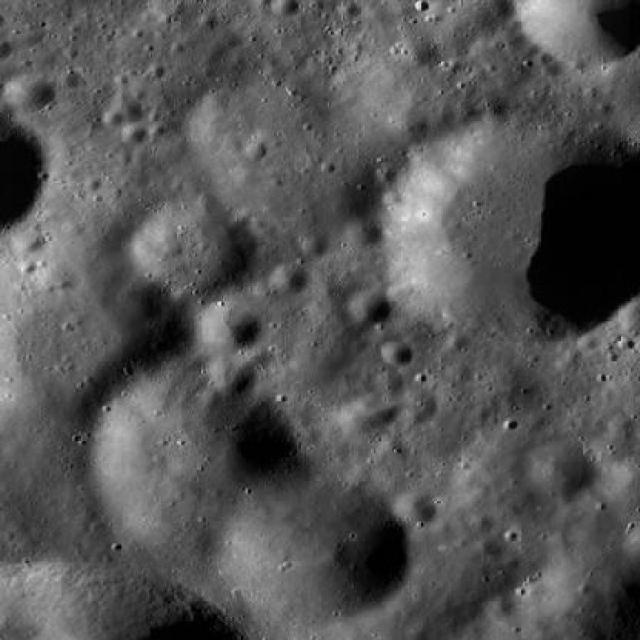crater: (85, 370, 313, 558), (0, 234, 191, 432), (210, 461, 412, 628), (230, 255, 378, 378), (190, 73, 332, 190), (452, 419, 585, 528), (134, 197, 260, 300), (524, 440, 602, 503), (192, 300, 260, 354), (5, 72, 56, 114), (451, 0, 504, 40), (342, 395, 392, 437), (427, 18, 476, 58), (206, 354, 254, 394), (389, 487, 434, 524), (348, 289, 392, 325), (396, 32, 439, 68), (397, 390, 437, 422), (270, 262, 308, 292), (346, 217, 382, 248), (392, 114, 428, 143), (476, 0, 518, 23), (381, 340, 414, 366), (9, 227, 42, 253), (374, 370, 406, 395), (115, 98, 144, 124), (469, 532, 498, 557), (484, 594, 512, 618), (121, 122, 148, 144), (302, 236, 327, 256), (483, 97, 508, 117), (467, 510, 490, 530), (272, 0, 300, 14), (339, 0, 361, 17), (62, 70, 82, 88), (104, 109, 125, 126), (246, 142, 268, 158), (200, 14, 218, 28), (0, 97, 12, 116), (0, 39, 12, 57), (1, 0, 2, 1)
